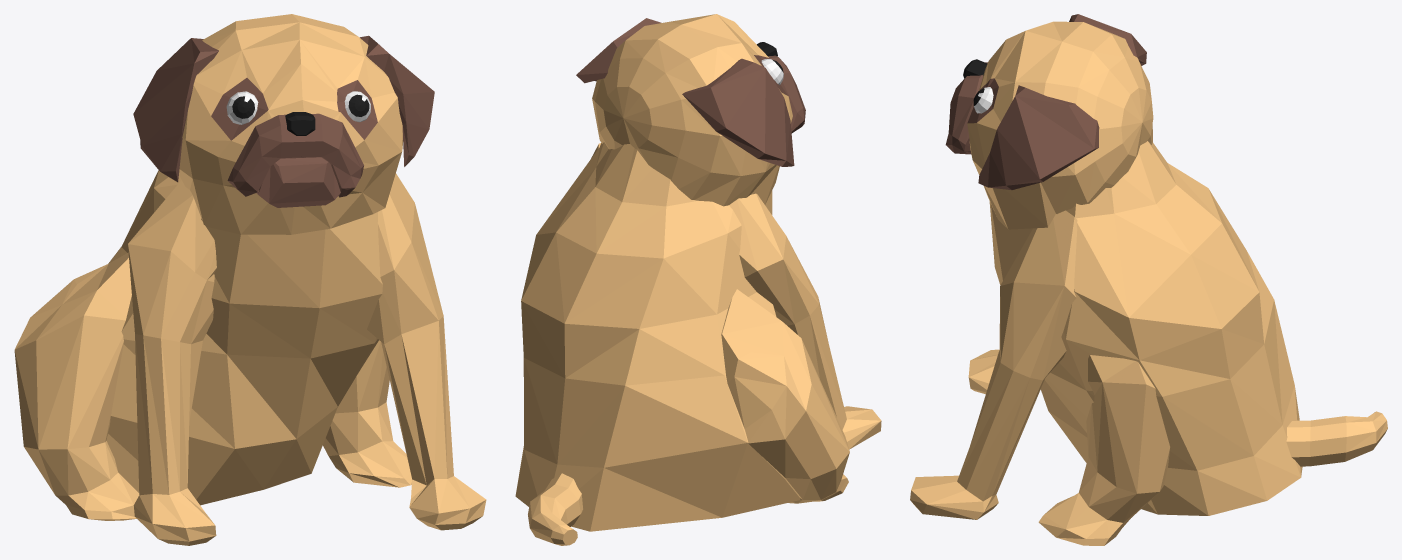
Rendered from pug-1.fbx.
3 renders of one model, left to right at view 1: azimuth 30°, elevation 25°; view 2: azimuth 150°, elevation 25°; view 3: azimuth 270°, elevation 25°, orthographic. The views are drawn at different scales.
Parts seen in each view (by area): view 1: group_1184196324, mesh_1387379420, group_2116817717, group_505342652, group_1793351774, group_685108320, group_1511730847, mesh_1207776990, group_900751713, mesh_1236413040, mesh_467083446, mesh_1208538360 (+2 smaller); view 2: group_1184196324, mesh_1387379420, group_505342652, group_2116817717, group_1511730847, group_441939820, group_900751713, mesh_1236413040; view 3: group_1184196324, mesh_1387379420, group_1793351774, group_685108320, group_900751713, group_441939820, mesh_467083446, group_2116817717, group_1511730847.
Part boxes in pixels (x1=…): group_1184196324: x1=106, y1=170, x2=382, y2=505; mesh_1387379420: x1=179, y1=14, x2=403, y2=234; group_2116817717: x1=128, y1=180, x2=216, y2=545; group_505342652: x1=14, y1=252, x2=139, y2=520; group_1793351774: x1=367, y1=173, x2=486, y2=530; group_685108320: x1=323, y1=340, x2=411, y2=487; group_1511730847: x1=133, y1=38, x2=218, y2=182; mesh_1207776990: x1=256, y1=157, x2=340, y2=207; group_900751713: x1=360, y1=35, x2=434, y2=166; mesh_1236413040: x1=227, y1=114, x2=302, y2=196; mesh_467083446: x1=301, y1=113, x2=363, y2=197; mesh_1208538360: x1=226, y1=91, x2=258, y2=124; group_1184196324: x1=515, y1=142, x2=799, y2=531; mesh_1387379420: x1=592, y1=14, x2=792, y2=206; group_505342652: x1=721, y1=289, x2=849, y2=503; group_2116817717: x1=729, y1=193, x2=881, y2=449; group_1511730847: x1=682, y1=58, x2=794, y2=166; group_441939820: x1=528, y1=473, x2=582, y2=545; group_900751713: x1=576, y1=18, x2=661, y2=83; mesh_1236413040: x1=768, y1=55, x2=805, y2=133; group_1184196324: x1=989, y1=141, x2=1302, y2=515; mesh_1387379420: x1=967, y1=21, x2=1153, y2=229; group_1793351774: x1=910, y1=210, x2=1077, y2=519; group_685108320: x1=1038, y1=355, x2=1170, y2=545; group_900751713: x1=978, y1=85, x2=1099, y2=190; group_441939820: x1=1286, y1=411, x2=1387, y2=466; mesh_467083446: x1=945, y1=75, x2=982, y2=154; group_2116817717: x1=968, y1=349, x2=999, y2=394; group_1511730847: x1=1069, y1=14, x2=1146, y2=65.
Size of the model in its own units: 33.71 by 45.43 by 43.32.
